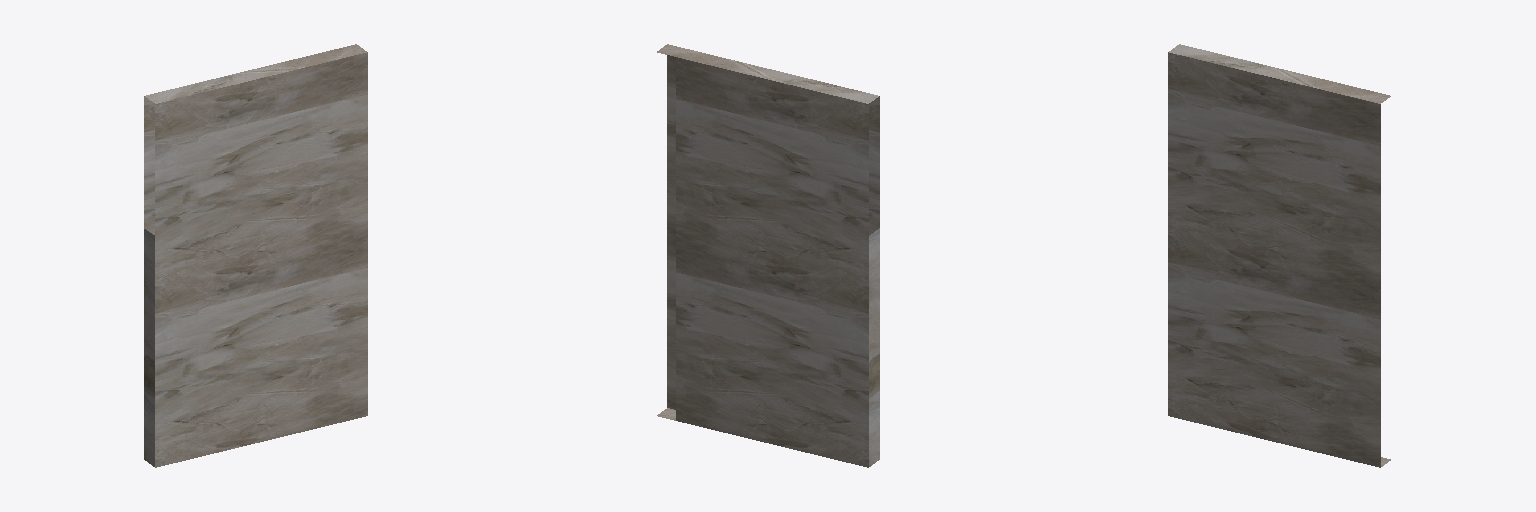
The picture shows the model from 3 angles: view 1: azimuth 30°, elevation 25°; view 2: azimuth 150°, elevation 25°; view 3: azimuth 330°, elevation 25°; orthographic projection.
Parts seen in each view (by area): view 1: Cube.005; view 2: Cube.005; view 3: Cube.005.
Part boxes in pixels (bbox=[...]): Cube.005: bbox=[144, 44, 367, 467]; Cube.005: bbox=[657, 44, 879, 467]; Cube.005: bbox=[1168, 44, 1390, 467].
Size of the model in its own units: 3.13 by 5.13 by 0.2849.
1 materials, 1 textured.